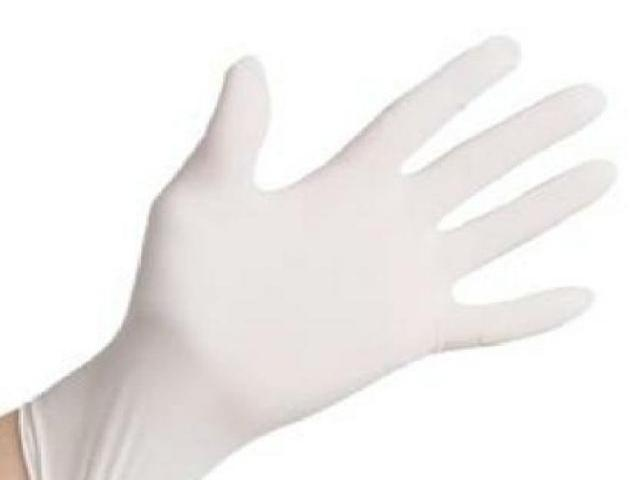Hand-in-Glove: (14, 33, 614, 479)
